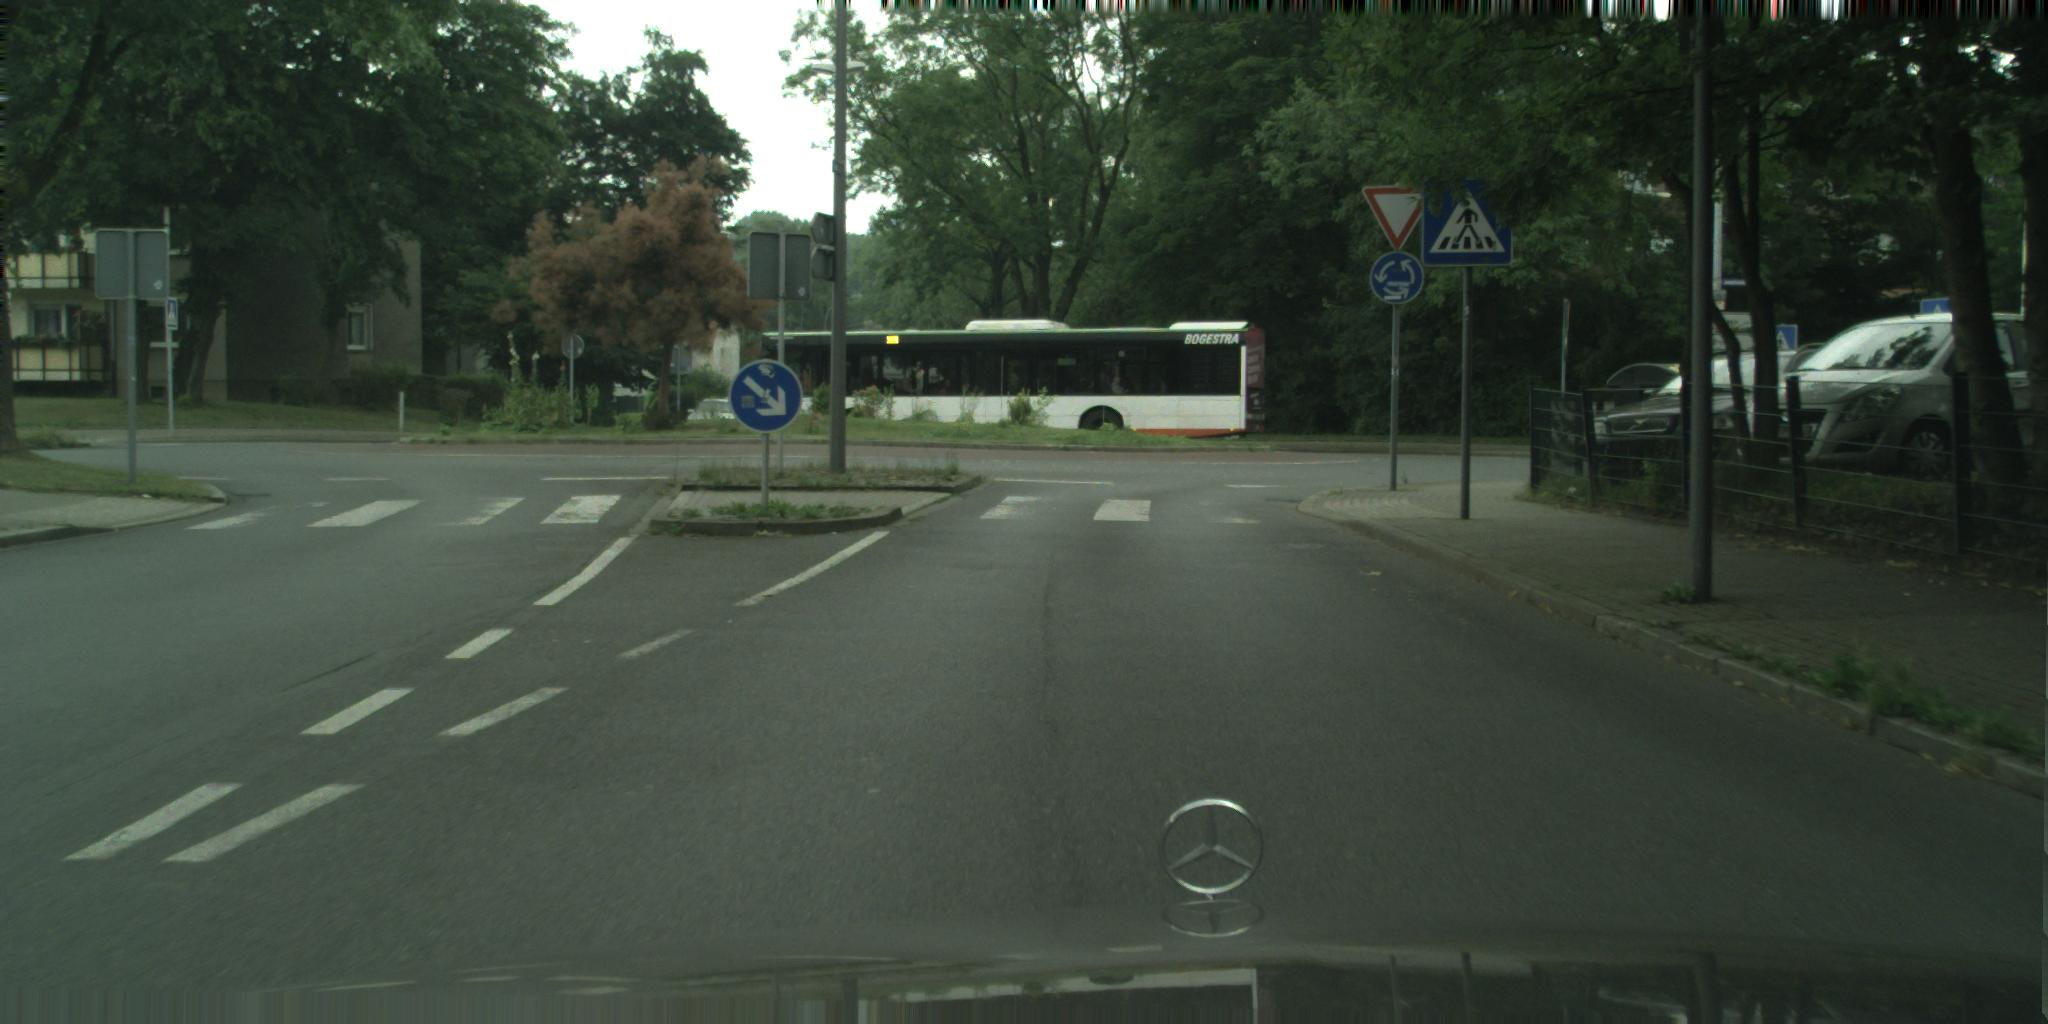bus: (758, 319, 1268, 440)
car: (1779, 308, 2035, 448), (1657, 350, 1819, 472), (687, 393, 750, 421)
